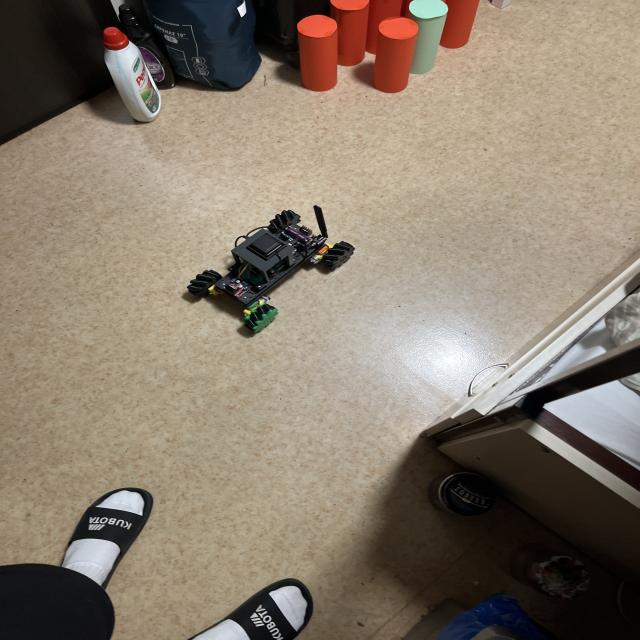robot: (188, 206, 354, 333)
